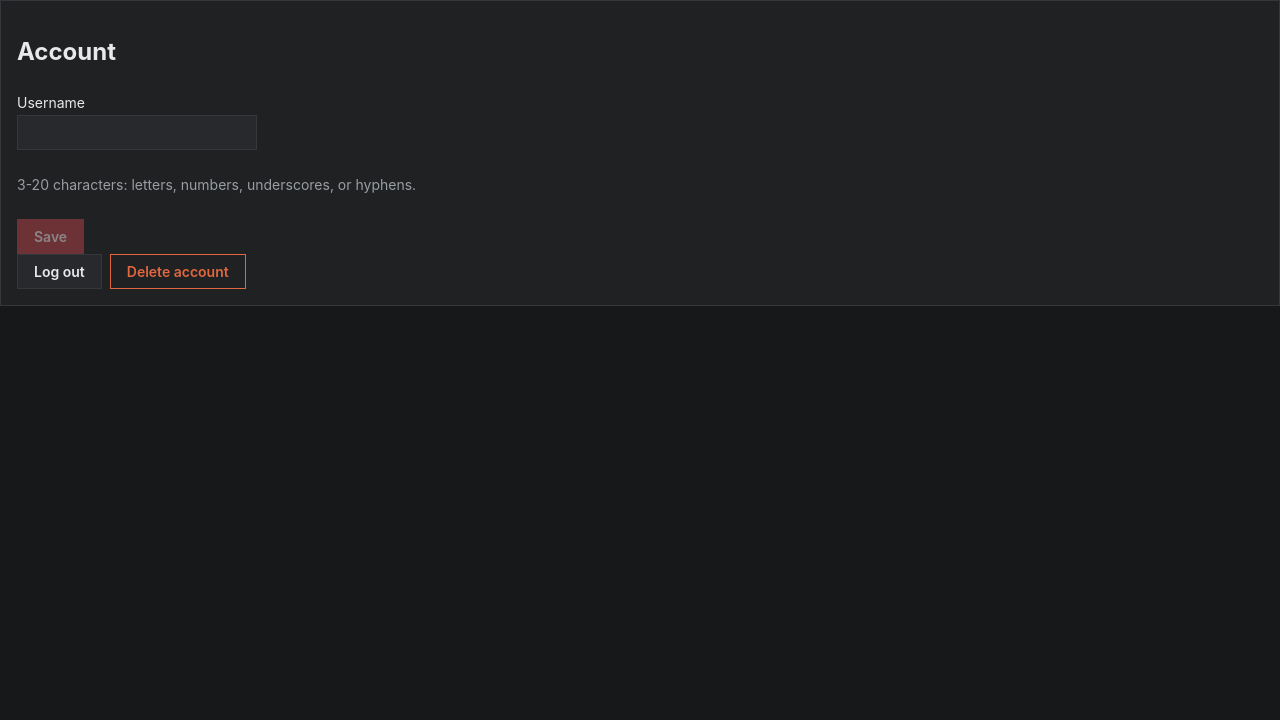
AccountPanel - delete account › shows the server's message and does not navigate away when blocked (409)
Click the button "Delete account" at (178, 271), box x1=110 y1=254 x2=246 y2=289
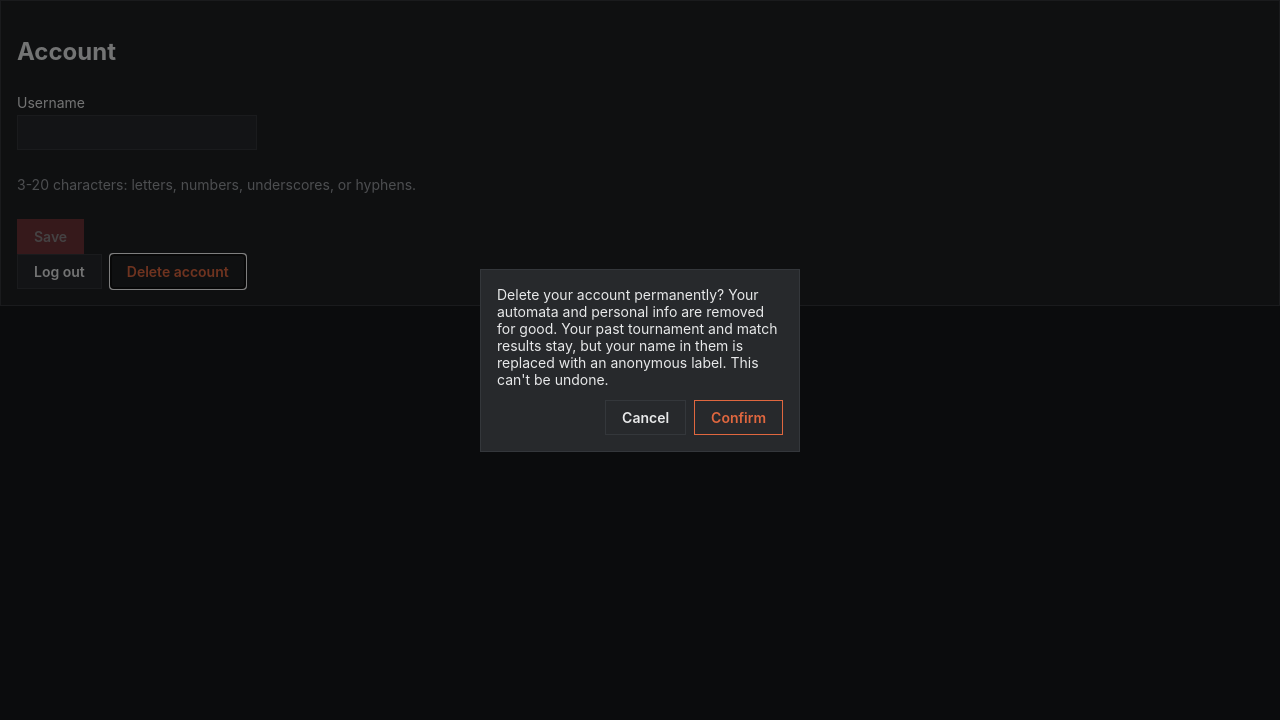
Click the button "Confirm" at (739, 417), box x1=694 y1=400 x2=783 y2=434
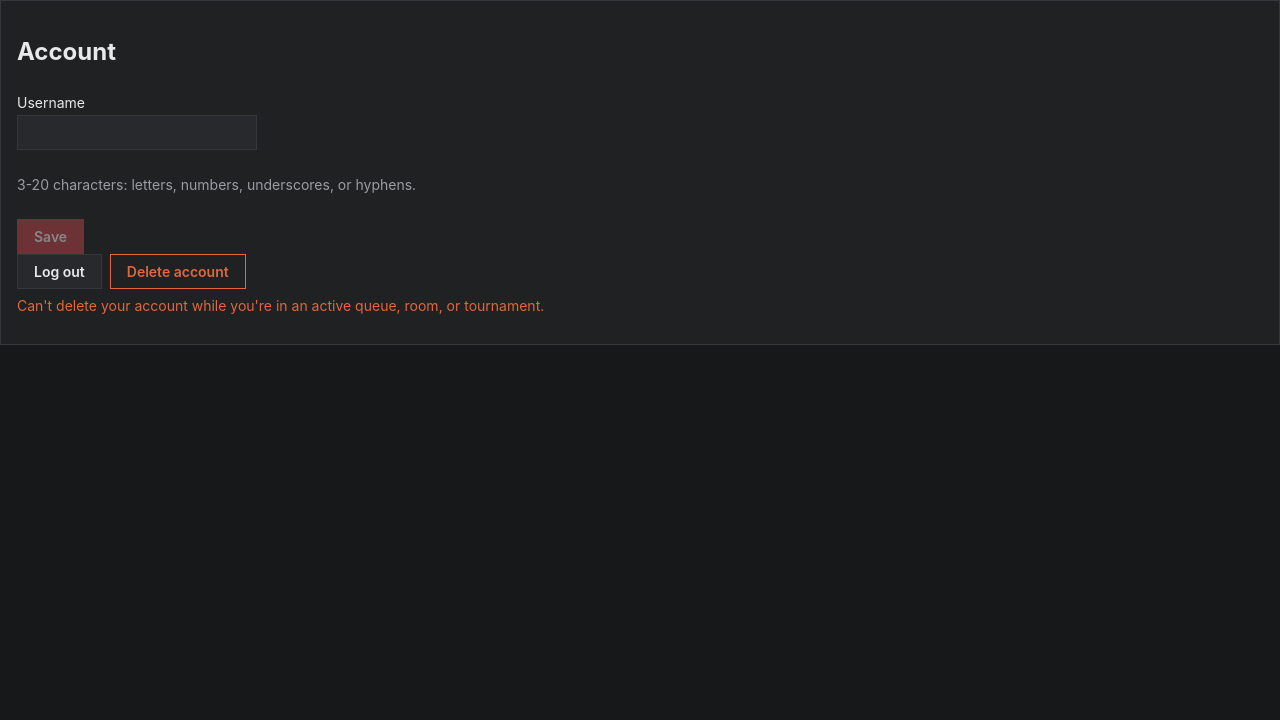
Expected: the button "Delete account" is shown, x1=110 y1=254 x2=246 y2=289
Now the text "active queue, room, or tournament" is shown, box x1=17 y1=297 x2=544 y2=314
